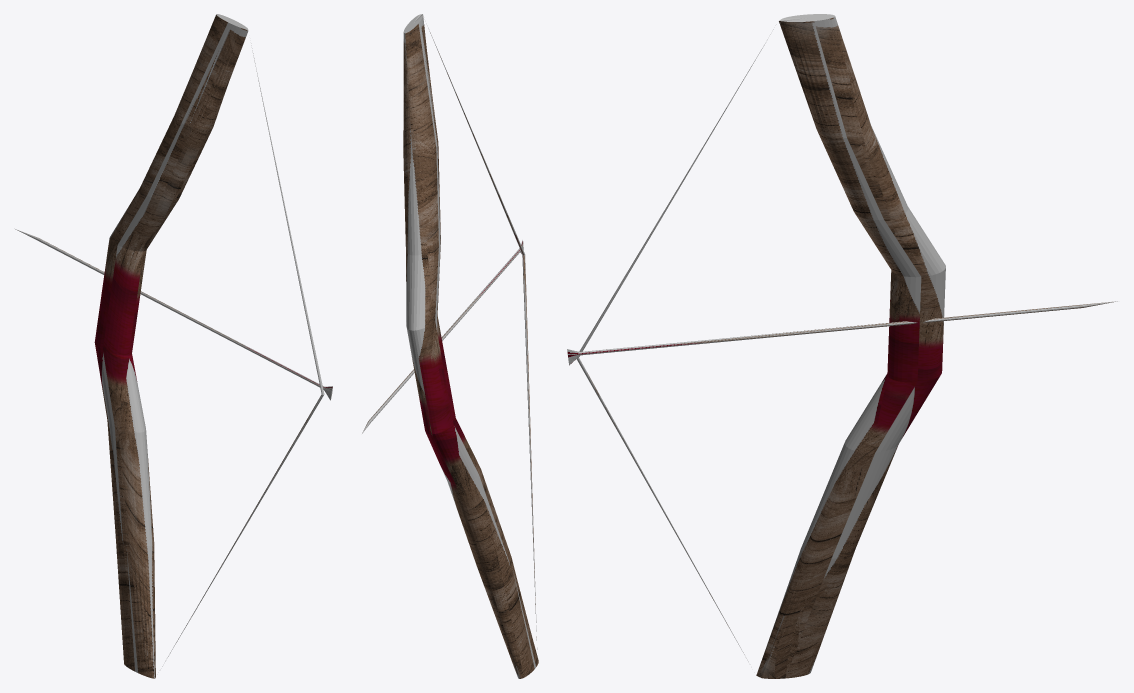
Rendered from Arco11.obj.
3 views of the same model, side by side, from view 1: azimuth 30°, elevation 25°; view 2: azimuth 150°, elevation 25°; view 3: azimuth 270°, elevation 25° (orthographic). The views are drawn at different scales.
Parts seen in each view (by area): view 1: Cilindro; view 2: Cilindro; view 3: Cilindro.
Boxes of the visible parts, x1,y1,x2,y2 form: Cilindro: [15, 14, 332, 678]; Cilindro: [362, 14, 538, 678]; Cilindro: [567, 14, 1117, 678].
Bounding box in the file's own units: 0.1886 × 0.9705 × 0.6791.
1 material, 1 textured.
